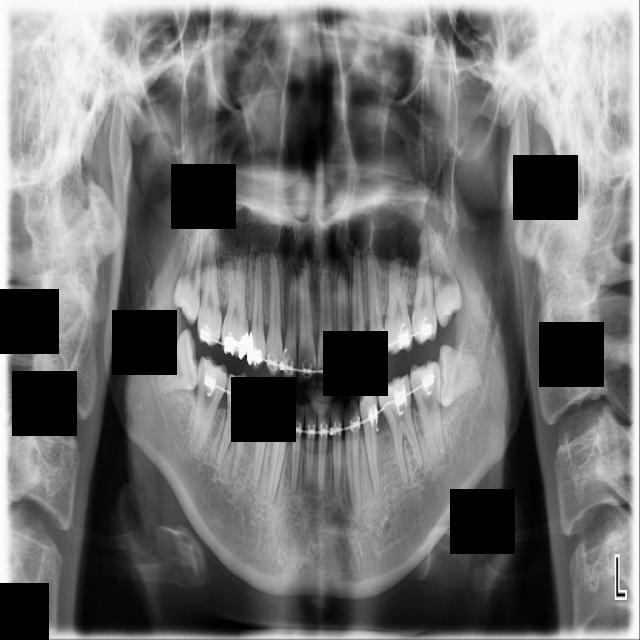3M ESPE Implant: (172, 218, 207, 326)
52: (219, 314, 251, 360), (246, 324, 266, 370)
73: (592, 578, 594, 598)
BioHorizons Implant: (402, 227, 439, 346)
BioLife Implant: (427, 220, 465, 330)
Biomet 3i Implant: (435, 344, 483, 410)
Blue Sky Bio Implant: (408, 359, 446, 466)
Caries: (194, 226, 223, 347)
Implant: (185, 351, 231, 460)
Keystone Dental Implant: (148, 327, 204, 397)
